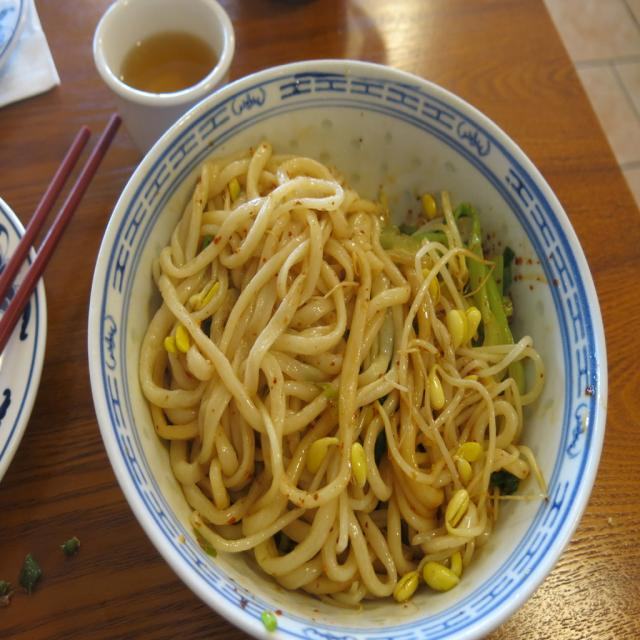Tea: (120, 36, 218, 91)
